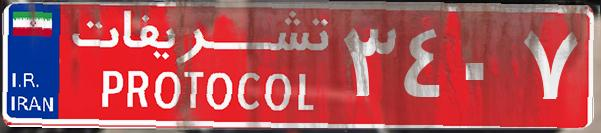0: (460, 20, 520, 115)
3: (340, 20, 400, 115)
4: (400, 20, 460, 115)
7: (520, 20, 580, 115)
تشریفات: (60, 8, 340, 125)
